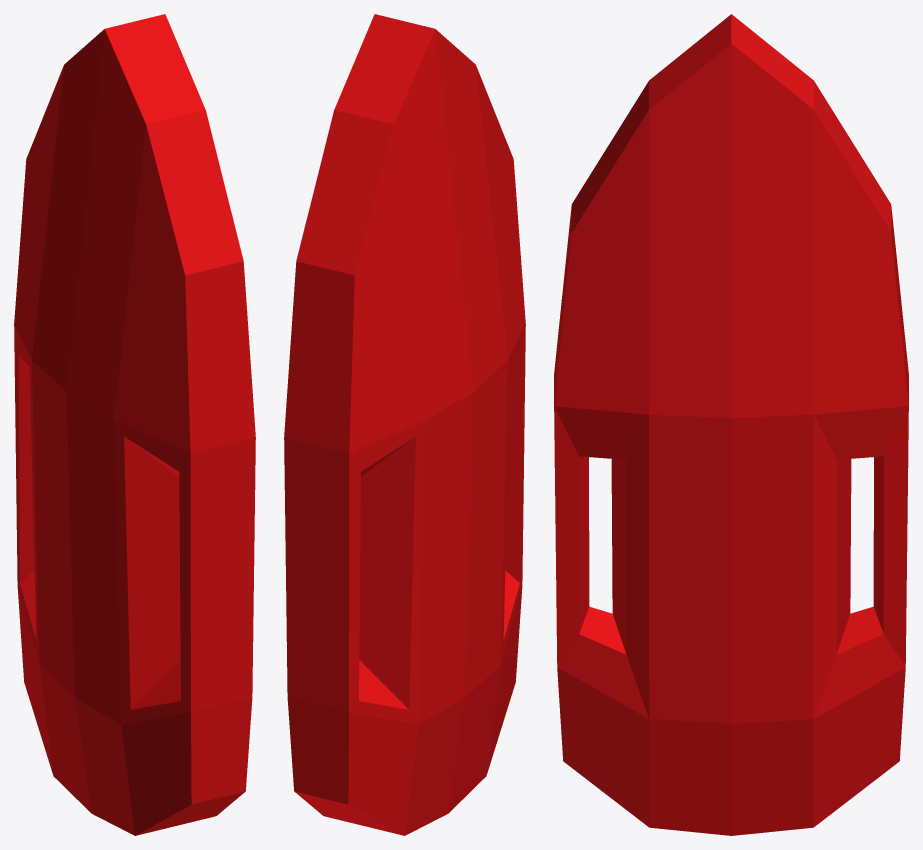
The model's file is float.fbx.
The picture shows the model from 3 angles, left to right: view 1: azimuth 30°, elevation 25°; view 2: azimuth 150°, elevation 25°; view 3: azimuth 270°, elevation 25°; orthographic projection.
Parts seen in each view (by area): view 1: float; view 2: float; view 3: float.
Boxes of the visible parts, left/top/right/bottom form: float: left=14, top=14, right=255, bottom=835; float: left=284, top=14, right=525, bottom=835; float: left=554, top=14, right=908, bottom=835.
Bounding box in the file's own units: 0.1573 × 0.3513 × 0.8584.
